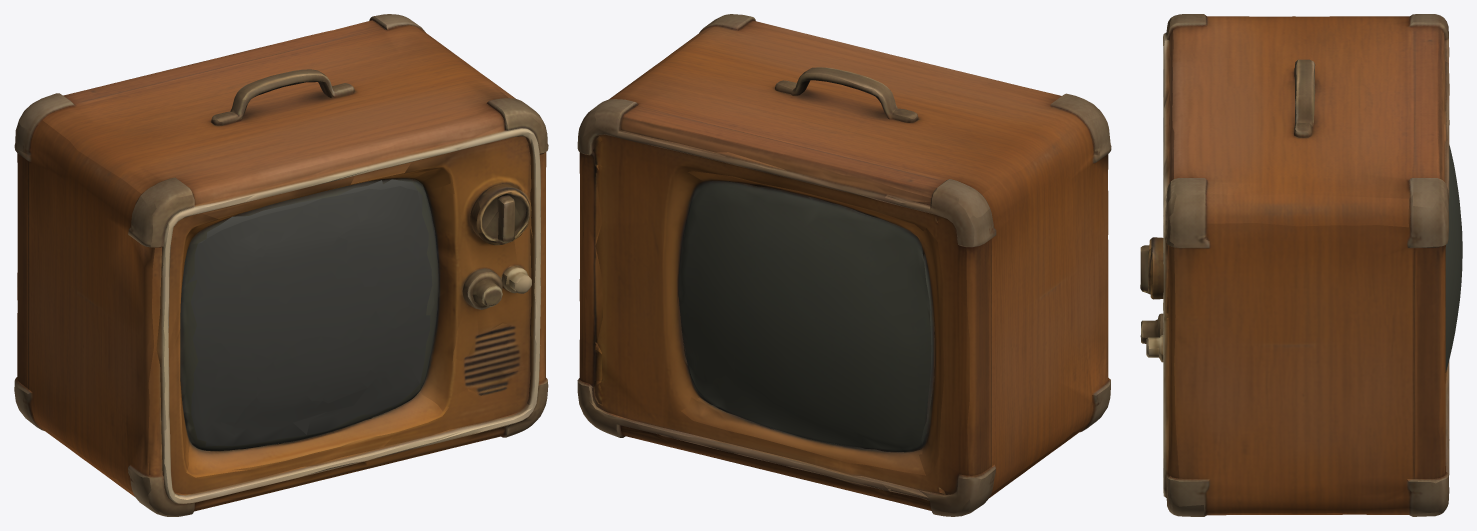
Rendered from whale.glb.
3 views of the same model, side by side, from view 1: azimuth 30°, elevation 25°; view 2: azimuth 150°, elevation 25°; view 3: azimuth 270°, elevation 25° (orthographic).
Parts seen in each view (by area): view 1: tv_shell, tv_screen; view 2: tv_shell; view 3: tv_shell.
Boxes of the visible parts, x1,y1,x2,y2 form: tv_shell: [14, 14, 548, 516]; tv_screen: [188, 179, 432, 446]; tv_shell: [577, 14, 1111, 516]; tv_shell: [1140, 14, 1462, 516].
Size of the model in its own units: 1 by 0.8397 by 0.6822.
2 materials, 1 textured.
